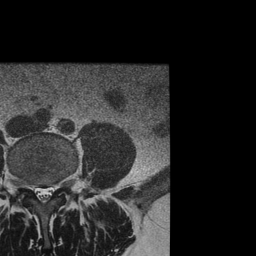CCS_normal: (40, 179, 47, 210)
LFS_normal: (55, 172, 63, 198)
LLS_stenosis: (47, 178, 55, 204)
RFS_stenosis: (24, 173, 32, 197)
RLS_normal: (32, 178, 40, 203)
